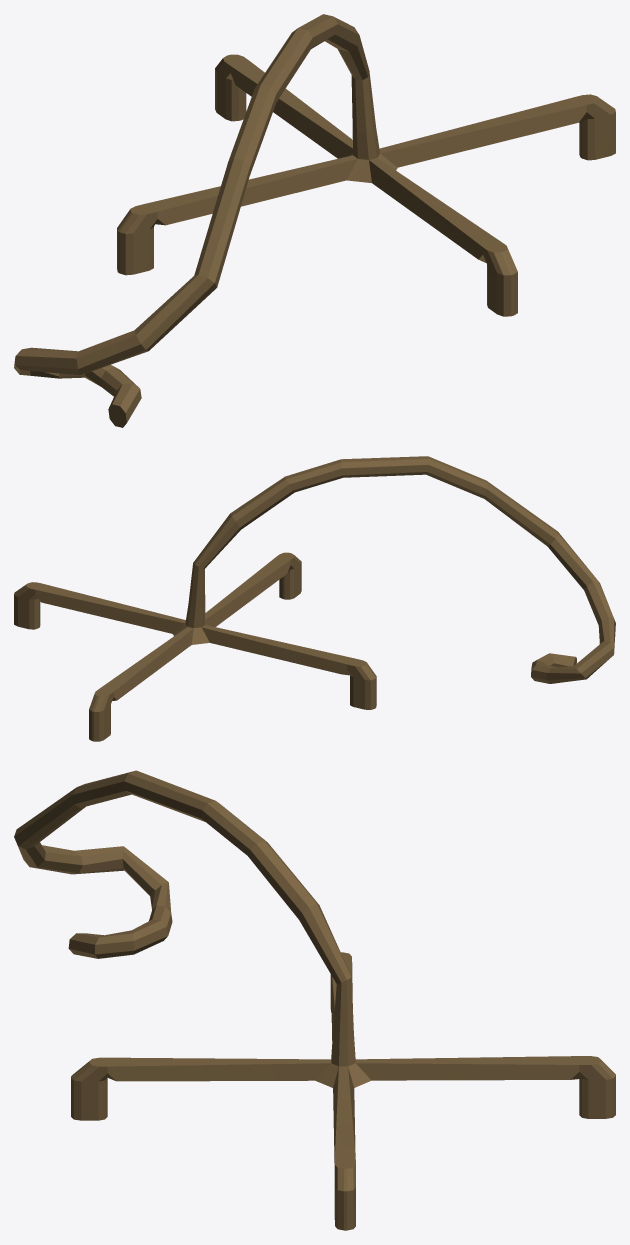
Rendered from nivel2 cuerda trampa.fbx.
3 renders of one model, top to bottom at view 1: azimuth 30°, elevation 25°; view 2: azimuth 150°, elevation 25°; view 3: azimuth 270°, elevation 25°, orthographic. The views are drawn at different scales.
Visible parts, largest first — view 1: CUERDA Trampa; view 2: CUERDA Trampa; view 3: CUERDA Trampa.
Boxes of the visible parts, x1,y1,x2,y2 form: CUERDA Trampa: (14, 14, 615, 427); CUERDA Trampa: (14, 456, 615, 741); CUERDA Trampa: (14, 770, 615, 1230).
Bounding box in the file's own units: 571 × 218 × 439.
